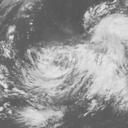cyclone: (25, 42, 110, 107)
